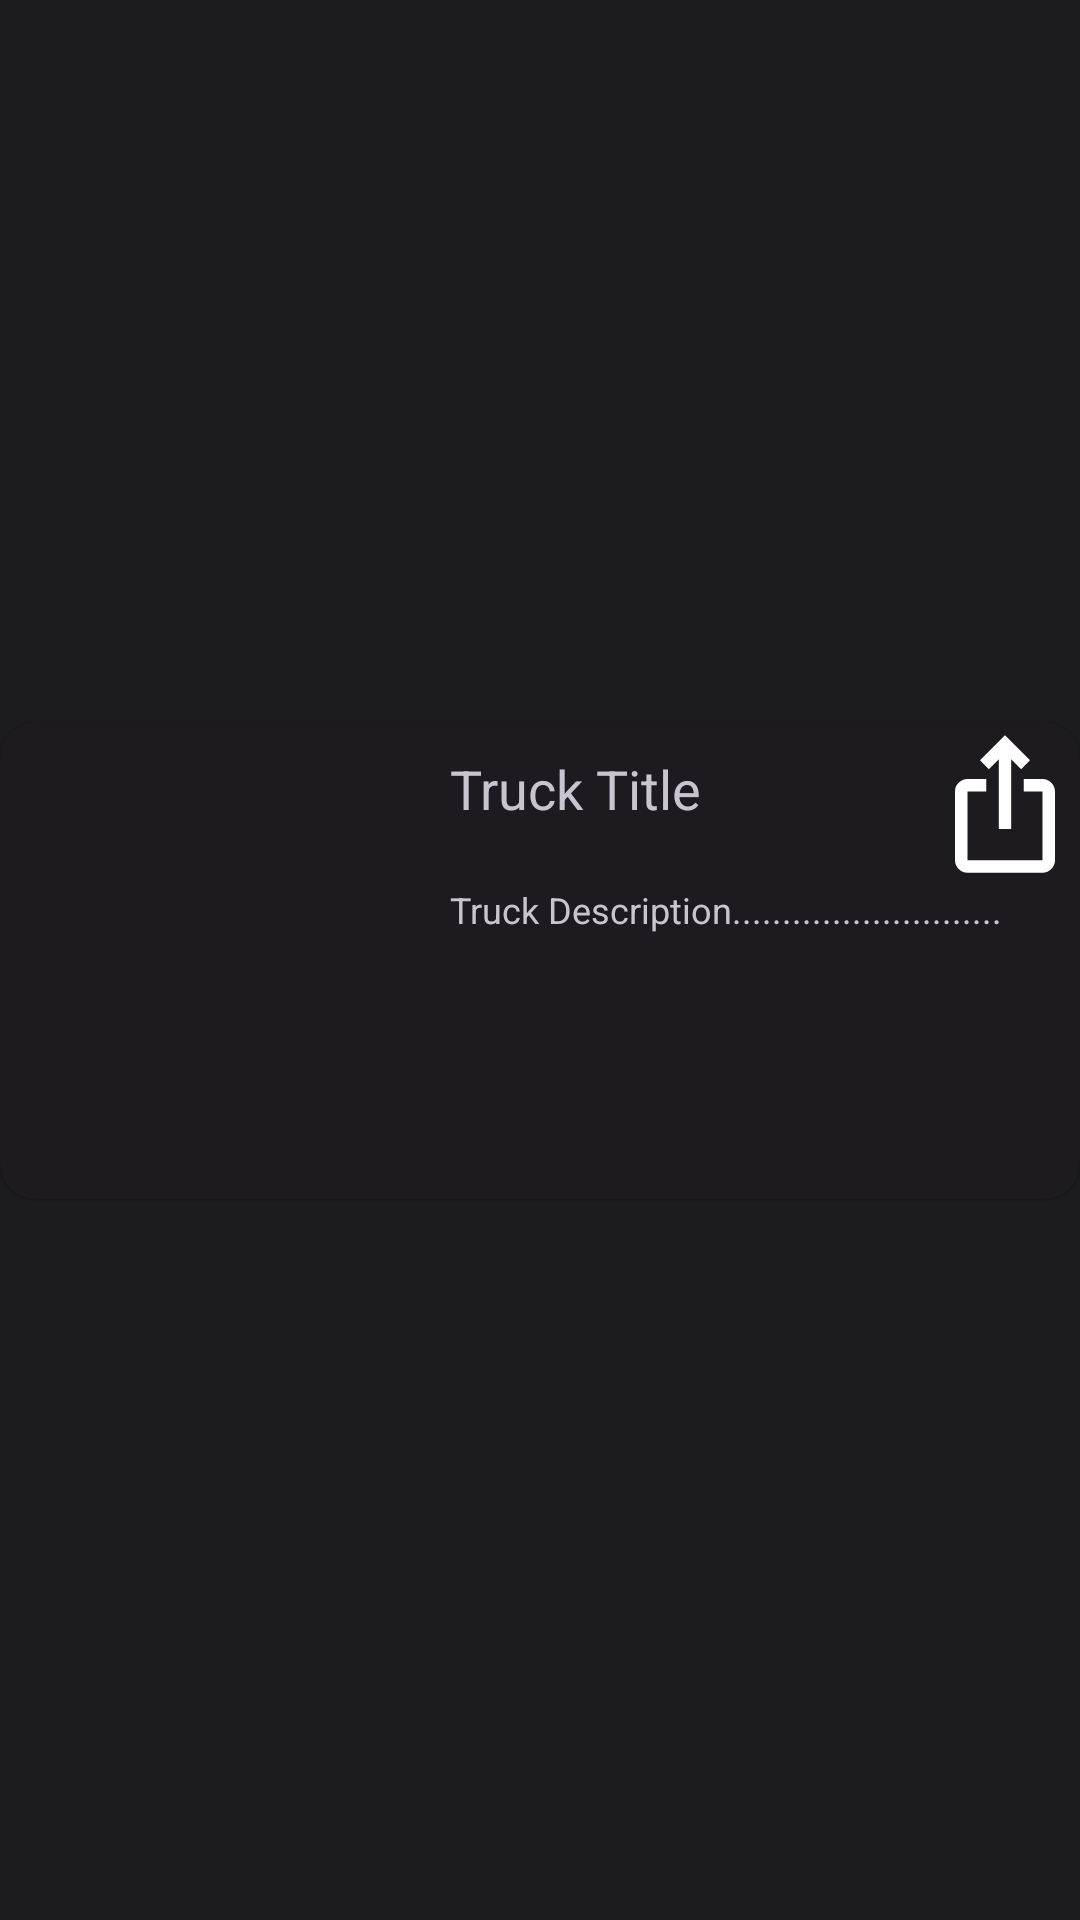

Where to tap for icons on this 1080*1920 app screen, as [x,y]:
share: [1005,804]
